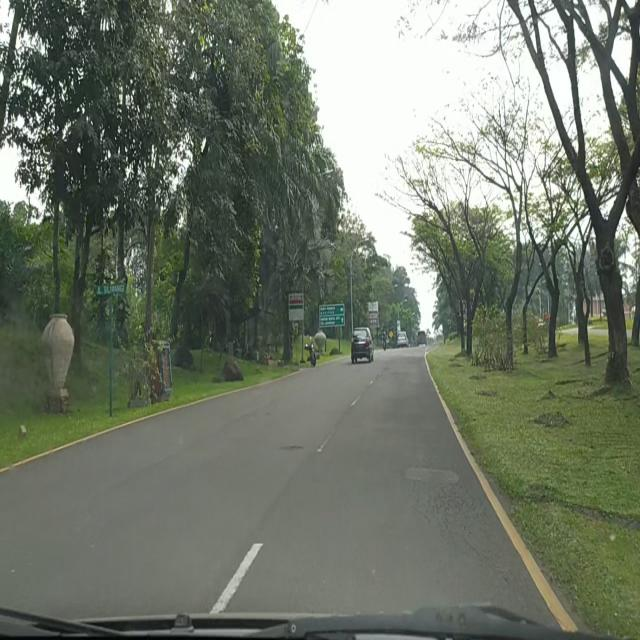Drain Hole: (418, 481, 482, 534)
